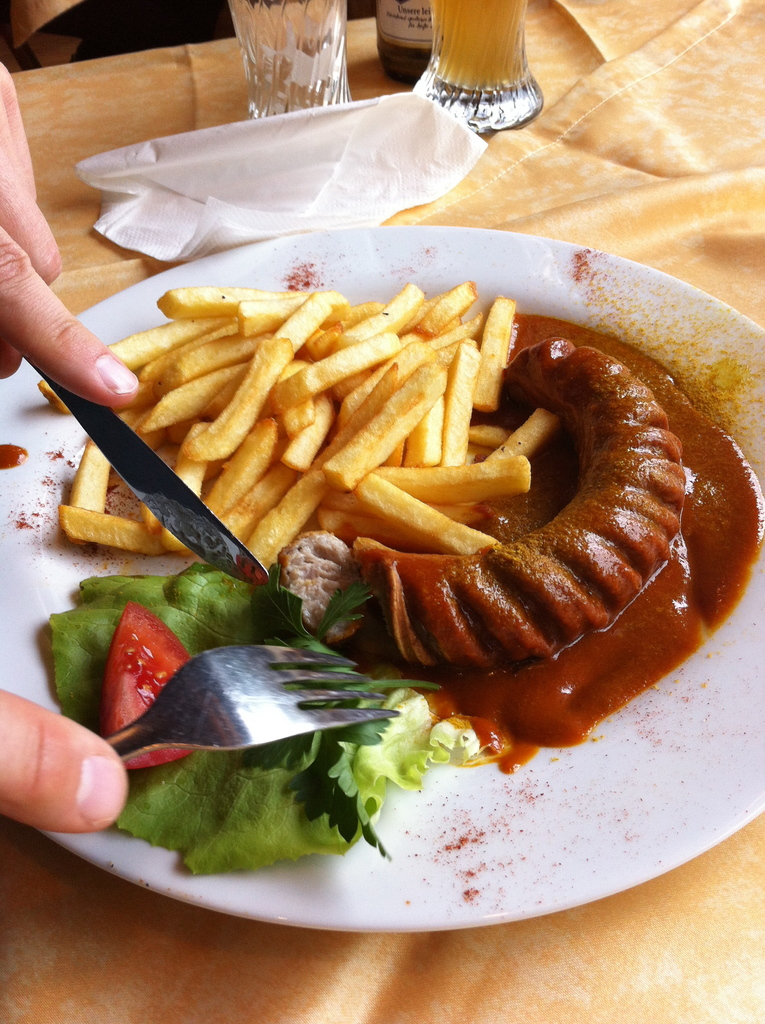French fries: (71, 272, 563, 551)
